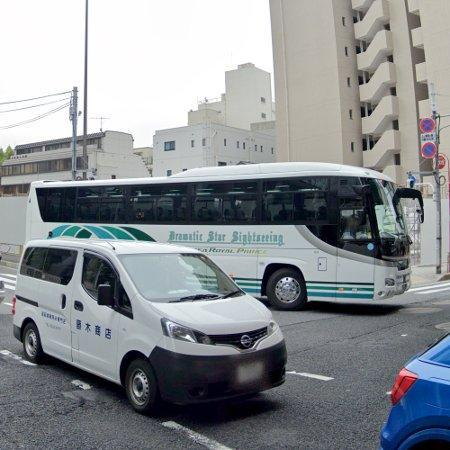buses: (27, 163, 411, 308)
